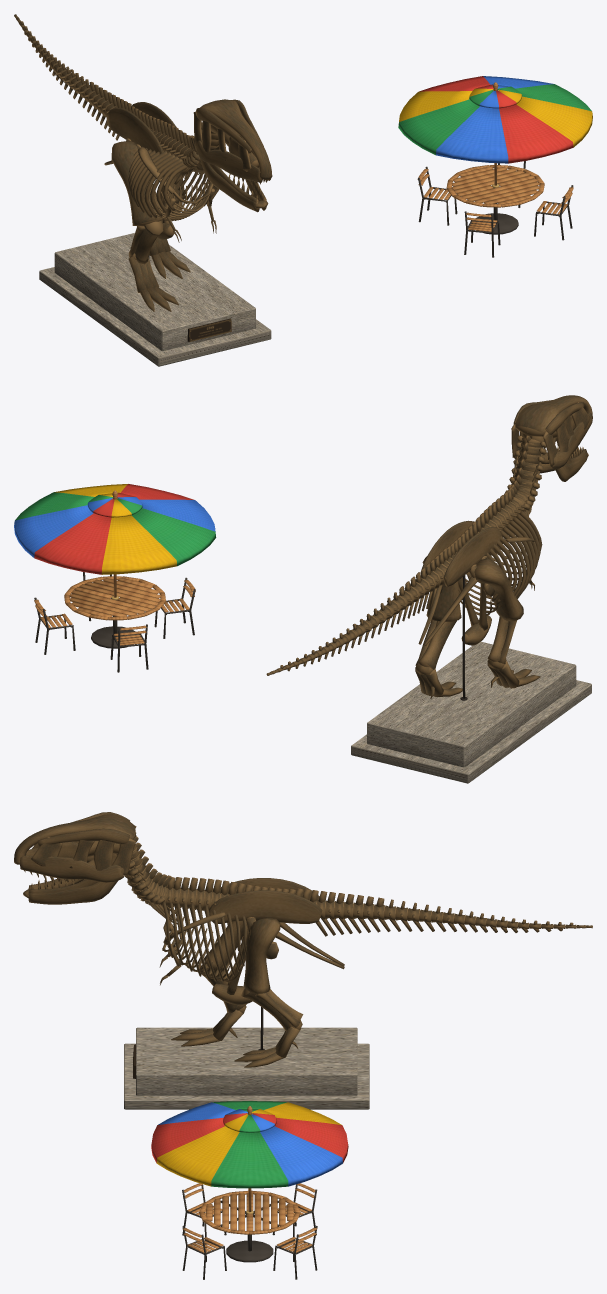
Rendered from stan_trex_v5.glb.
3 renders of one model, top to bottom at view 1: azimuth 30°, elevation 25°; view 2: azimuth 150°, elevation 25°; view 3: azimuth 270°, elevation 25°, orthographic. The views are drawn at different scales.
Visible parts, largest first — view 1: Courtyard_Cafe_Set_V5, Stan_Plinth_V5, Stan_Body_V5, Stan_Neck_Head_V5, Stan_Lower_Jaw_V5; view 2: Courtyard_Cafe_Set_V5, Stan_Body_V5, Stan_Plinth_V5, Stan_Neck_Head_V5, Stan_Lower_Jaw_V5; view 3: Stan_Body_V5, Courtyard_Cafe_Set_V5, Stan_Plinth_V5, Stan_Neck_Head_V5, Stan_Lower_Jaw_V5.
Part boxes in pixels (left/top/right/bottom): Courtyard_Cafe_Set_V5: left=398, top=76, right=592, bottom=257; Stan_Plinth_V5: left=39, top=233, right=271, bottom=366; Stan_Body_V5: left=14, top=14, right=218, bottom=311; Stan_Neck_Head_V5: left=179, top=99, right=272, bottom=184; Stan_Lower_Jaw_V5: left=195, top=141, right=268, bottom=212; Courtyard_Cafe_Set_V5: left=14, top=484, right=216, bottom=672; Stan_Body_V5: left=266, top=489, right=542, bottom=700; Stan_Plinth_V5: left=351, top=641, right=591, bottom=783; Stan_Neck_Head_V5: left=505, top=395, right=592, bottom=536; Stan_Lower_Jaw_V5: left=518, top=446, right=588, bottom=481; Stan_Body_V5: left=159, top=877, right=592, bottom=1067; Courtyard_Cafe_Set_V5: left=151, top=1101, right=348, bottom=1279; Stan_Plinth_V5: left=124, top=1027, right=369, bottom=1109; Stan_Neck_Head_V5: left=14, top=812, right=177, bottom=924; Stan_Lower_Jaw_V5: left=23, top=853, right=123, bottom=904.
Bounding box in the file's own units: 9.58 × 4.87 × 9.71.
Materials: 3 (3 with a texture image).
